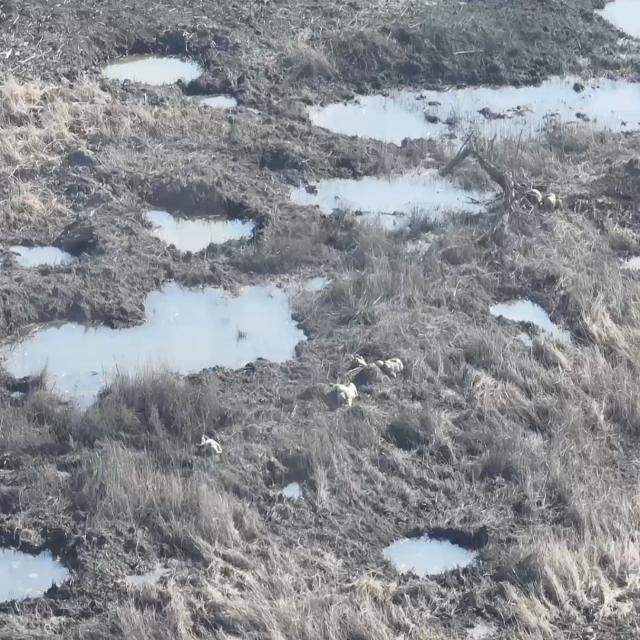infantry: (329, 377, 359, 408), (195, 430, 223, 456), (376, 355, 404, 378), (542, 190, 562, 215), (526, 184, 542, 210)
